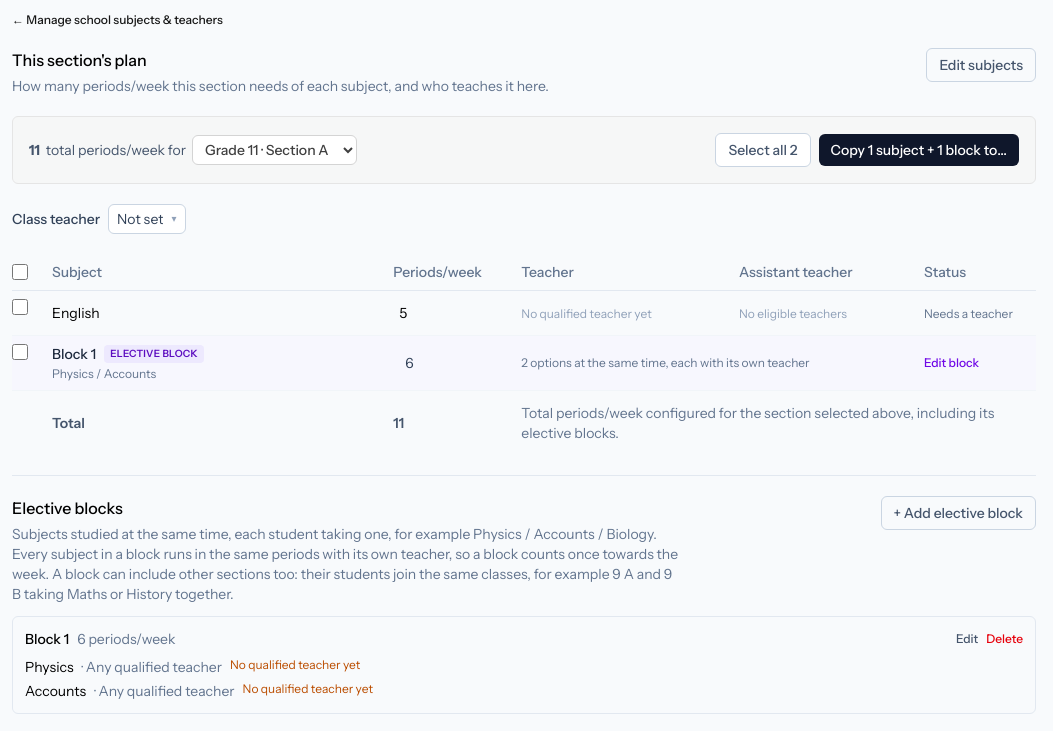
Scenario: a section's plan with elective blocks › can also make a block option a subject everyone takes, saying where else it is
Click the button "Edit subjects": (981, 65) top-left (926, 48), bottom-right (1036, 82)
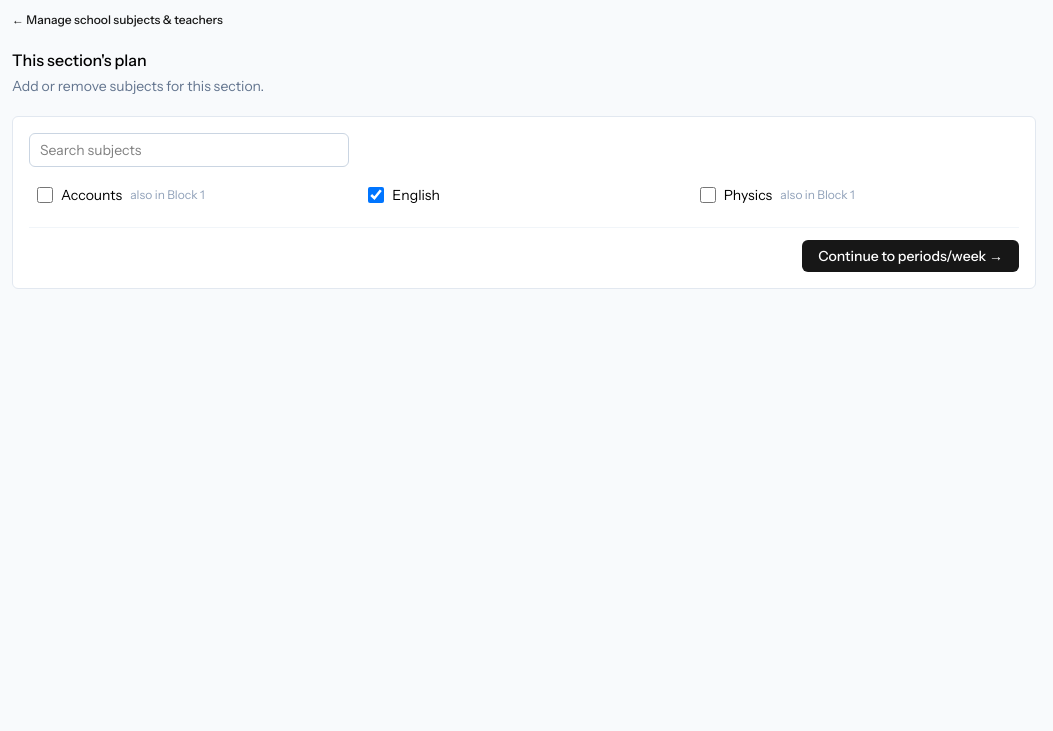
Expected: the checkbox labelled "Physics also in Block 1" is enabled, top-left (700, 187), bottom-right (716, 203)
Expected: the text "Physics" shows "also in Block 1", top-left (700, 186), bottom-right (855, 204)
